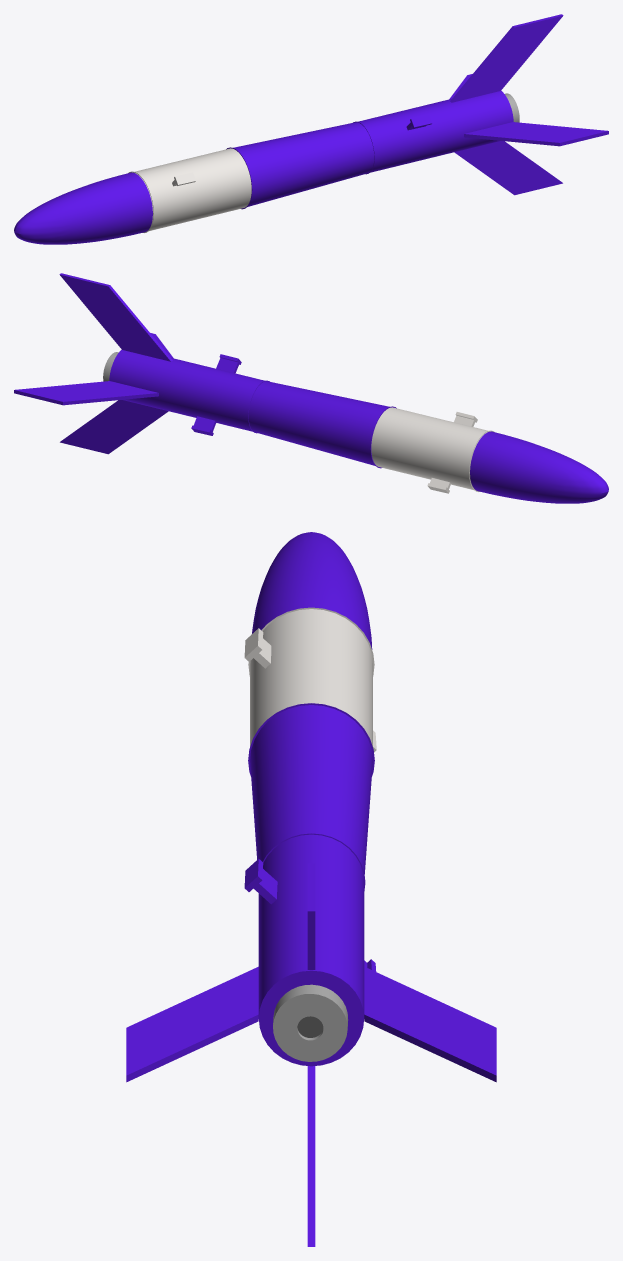
File: rocket2.gltf
3 views of the same model, one above another, from view 1: azimuth 30°, elevation 25°; view 2: azimuth 150°, elevation 25°; view 3: azimuth 270°, elevation 25° (orthographic). The views are drawn at different scales.
Parts seen in each view (by area): view 1: trup, finy; view 2: trup, finy, drážka 1, drážka 2; view 3: trup, finy, motor.
Part boxes in pixels (x1=…): trup: x1=14, y1=91, x2=513, y2=244; finy: x1=449, y1=14, x2=608, y2=195; trup: x1=109, y1=350, x2=608, y2=503; finy: x1=14, y1=273, x2=173, y2=454; drážka 1: x1=191, y1=416, x2=216, y2=435; drážka 2: x1=216, y1=354, x2=241, y2=373; trup: x1=248, y1=532, x2=374, y2=1066; finy: x1=126, y1=863, x2=496, y2=1246; motor: x1=273, y1=984, x2=348, y2=1061.
Bounding box in the file's own units: 0.669 × 0.1958 × 0.1958.
